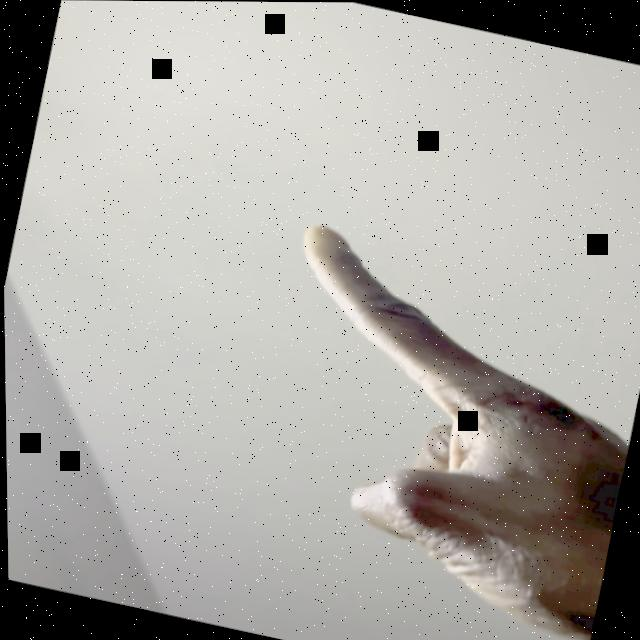Scissors: (232, 216, 640, 640)
